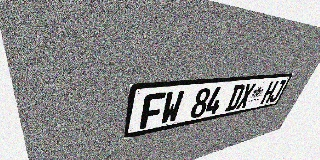4: (203, 86, 226, 116)
8: (189, 87, 213, 119)
D: (224, 84, 246, 112)
F: (139, 92, 166, 129)
H: (260, 81, 279, 104)
J: (268, 80, 286, 103)
W: (159, 90, 185, 125)
X: (235, 83, 256, 109)
